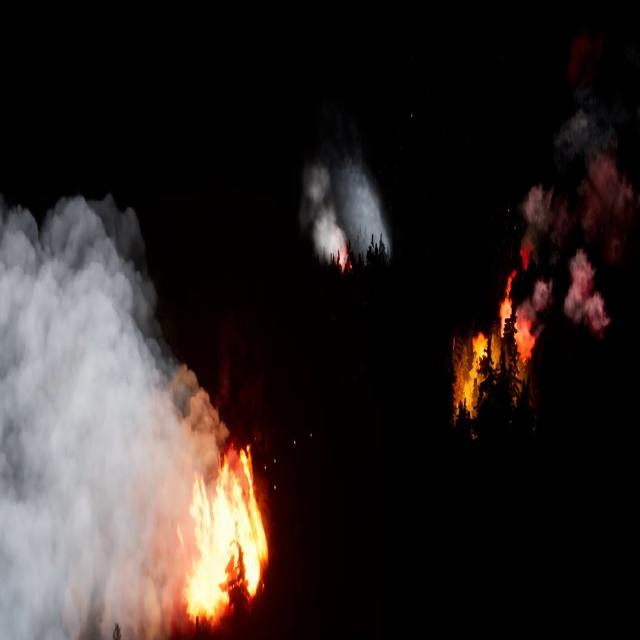fire: (181, 442, 265, 627), (455, 274, 537, 416)
smoke: (0, 197, 233, 639), (522, 94, 640, 316), (306, 159, 397, 268)
